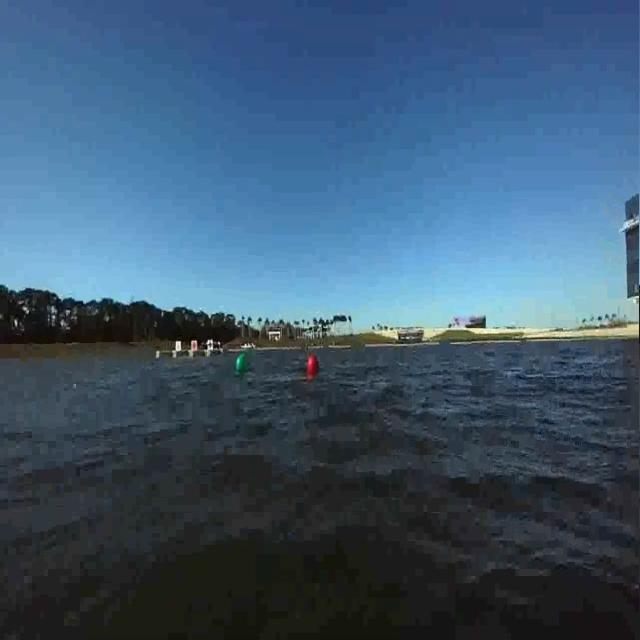green-buoy: (230, 348, 254, 383)
red-buoy: (300, 347, 326, 389)
